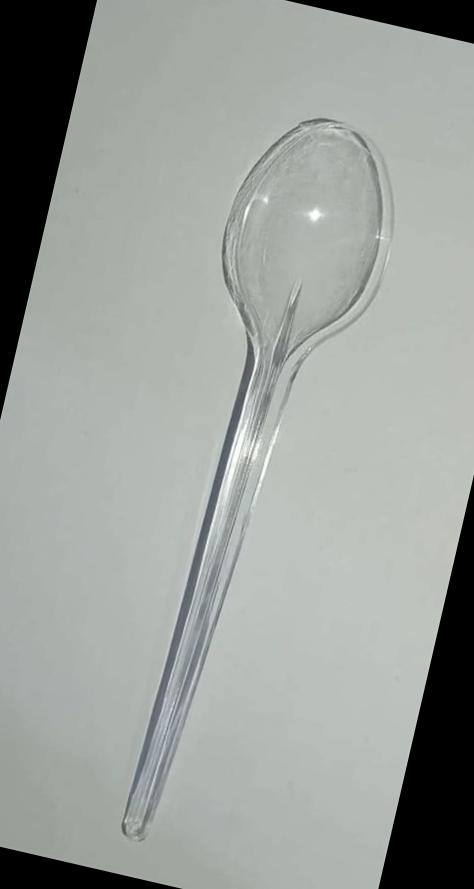Plastik: (123, 119, 393, 839)
